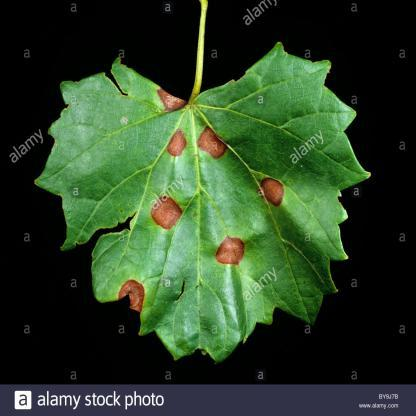grape leaf: (33, 34, 375, 368)
